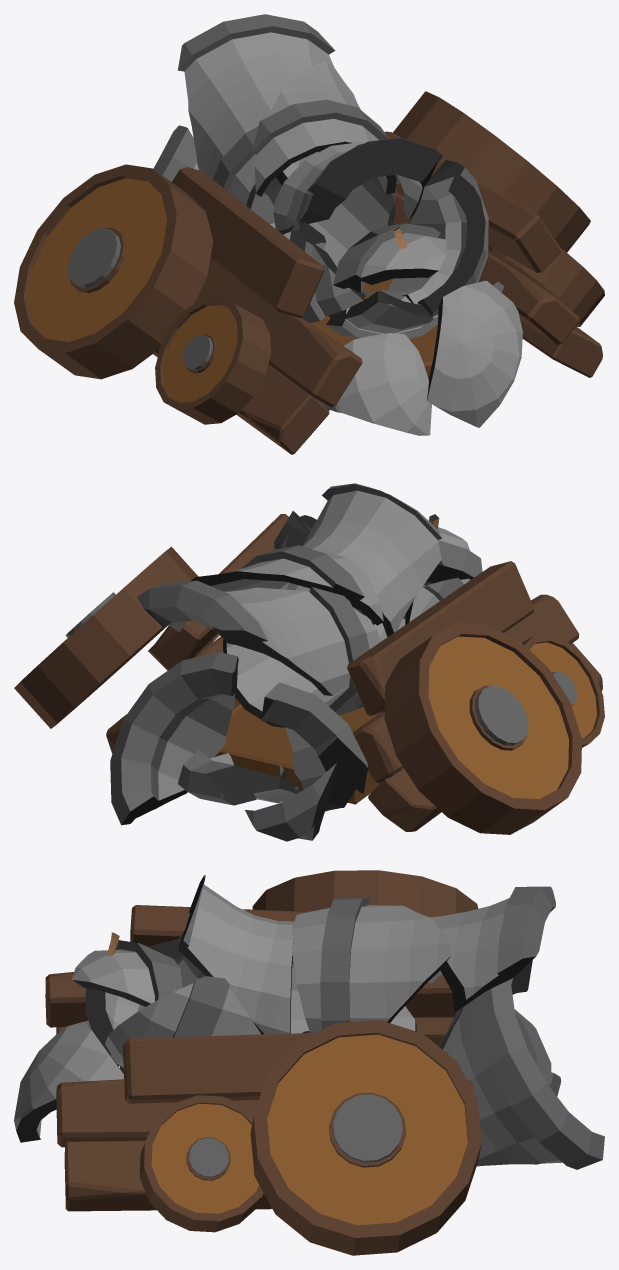
File: CannonBroken.fbx
3 views of the same model, one above another, from view 1: azimuth 30°, elevation 25°; view 2: azimuth 150°, elevation 25°; view 3: azimuth 270°, elevation 25° (orthographic). The views are drawn at different scales.
Visible parts, largest first — view 1: BrokenCannon; view 2: BrokenCannon; view 3: BrokenCannon.
Part boxes in pixels (box(x1,y1,x2,y2)): BrokenCannon: box(14, 14, 604, 454); BrokenCannon: box(14, 483, 604, 841); BrokenCannon: box(14, 870, 604, 1255).
Bounding box in the file's own units: 268 × 112 × 238.
